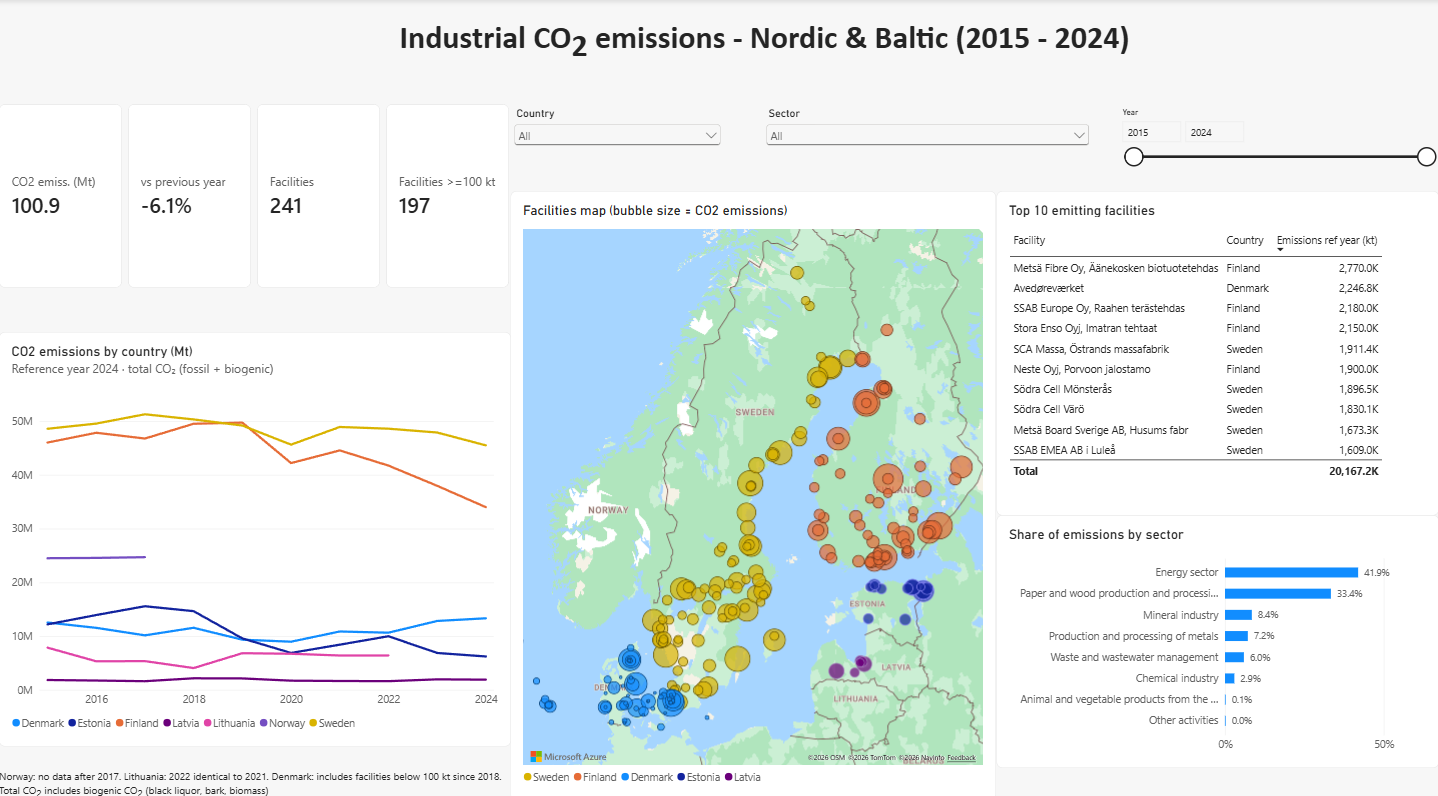

This screenshot's page, from the dashboard's own definition file:
{"tool":"powerbi","page":{"name":"Overview","canvas":[1920,1080],"ordinal":0},"visuals":[{"type":"textbox","box":[112.5,35,1807.5,87.5],"z":0},{"type":"cardVisual","fields":{"Data":["_Measures.Emissions ref year","_Measures.YoY ref year","_Measures.Sites ref year"]},"box":[0,152.5,602.5,302.5],"z":1000},{"type":"lineChart","title":"CO2 emissions by country (t)","fields":{"Category":["Years.Year"],"Series":["Sites.countryName"],"Y":["_Measures.Emissions (t)"]},"box":[0,455,602.5,552.5],"z":2000},{"type":"barChart","title":"Share of emissions by sector","fields":{"Category":["Sites.EPRTR_SectorName"],"Y":["_Measures.Sector Share"]},"box":[1330,700,590,337.5],"z":3000},{"type":"azureMap","title":"Facilities map (bubble size = CO2 emissions)","fields":{"Series":["Sites.countryName"],"Size":["_Measures.Emissions (t)"],"X":["Sites.Lon_map"],"Y":["Sites.Lat_map"]},"box":[602.5,267.5,727.5,812.5],"z":4000},{"type":"tableEx","title":"Top 10 emitting facilities","fields":{"Values":["Sites.facilityName","Sites.countryName","_Measures.Emissions ref year"]},"box":[1330,267.5,590,432.5],"z":5000},{"type":"slicer","fields":{"Values":["Sites.countryName"]},"box":[602.5,155,365,112.5],"z":6000},{"type":"slicer","fields":{"Values":["Sites.EPRTR_SectorName"]},"box":[1017.5,155,440,115],"z":7000},{"type":"slicer","fields":{"Values":["Years.Year"]},"box":[1490,155,430,115],"z":8000},{"type":"textbox","box":[0,1037.5,950,42.5],"z":9000}]}

Visuals, with their boxes in screenshot pixels (x1, y1, x2, y2), scaled from the page's 1920x1080 canvas onto the 1438x796 screenshot:
textbox: [84, 26, 1437, 90]
cardVisual - _Measures.Emissions ref year x _Measures.YoY ref year: [0, 112, 451, 335]
"CO2 emissions by country (t)" lineChart: [0, 335, 451, 743]
"Share of emissions by sector" barChart: [996, 516, 1437, 765]
"Facilities map (bubble size = CO2 emissions)" azureMap: [451, 197, 996, 795]
"Top 10 emitting facilities" tableEx: [996, 197, 1437, 516]
slicer - Sites.countryName: [451, 114, 725, 197]
slicer - Sites.EPRTR_SectorName: [762, 114, 1092, 199]
slicer - Years.Year: [1116, 114, 1437, 199]
textbox: [0, 765, 712, 795]
